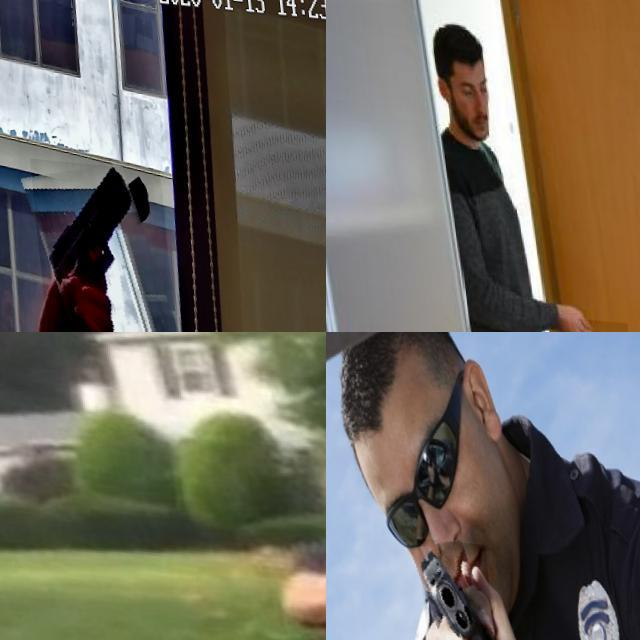-: (569, 311, 622, 332)
gun-knife-thesis - v11 Yolov5 augmented: (25, 152, 172, 332), (411, 532, 491, 640)
